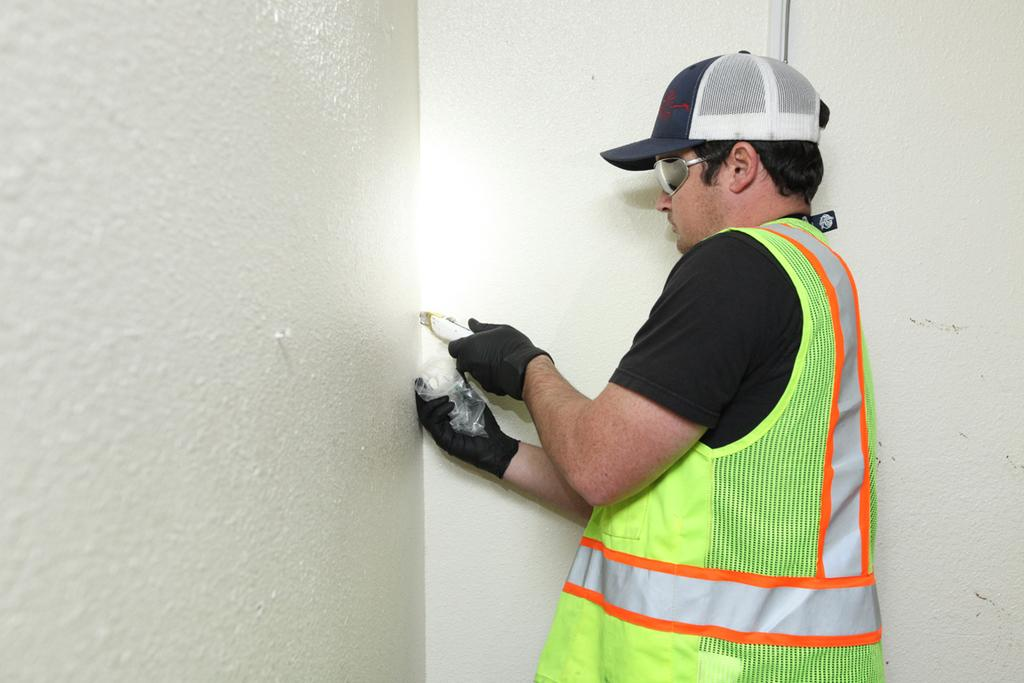Hat: (602, 48, 820, 174)
